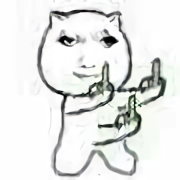dragon: (57, 30, 118, 80)
